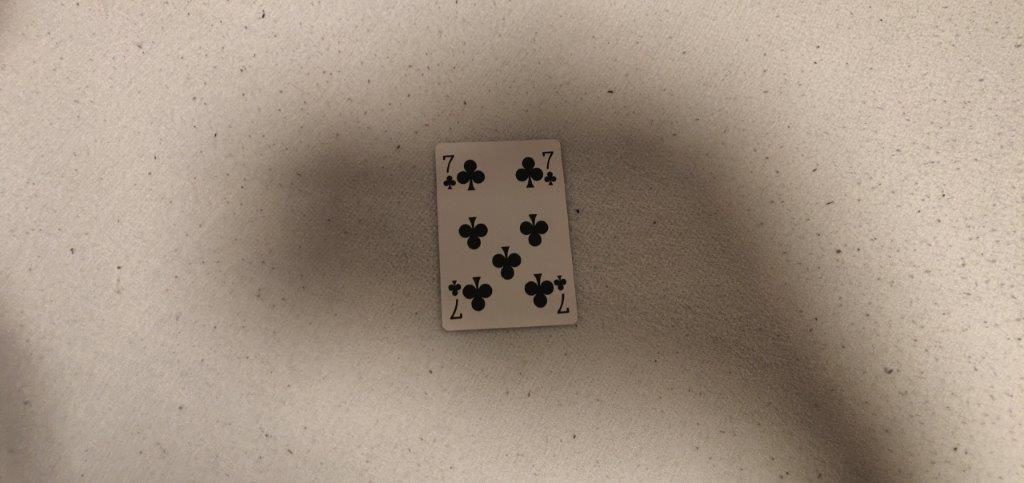7C: (439, 151, 460, 192), (540, 146, 559, 189)
